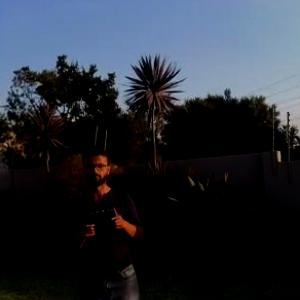follow: (59, 137, 149, 299)
